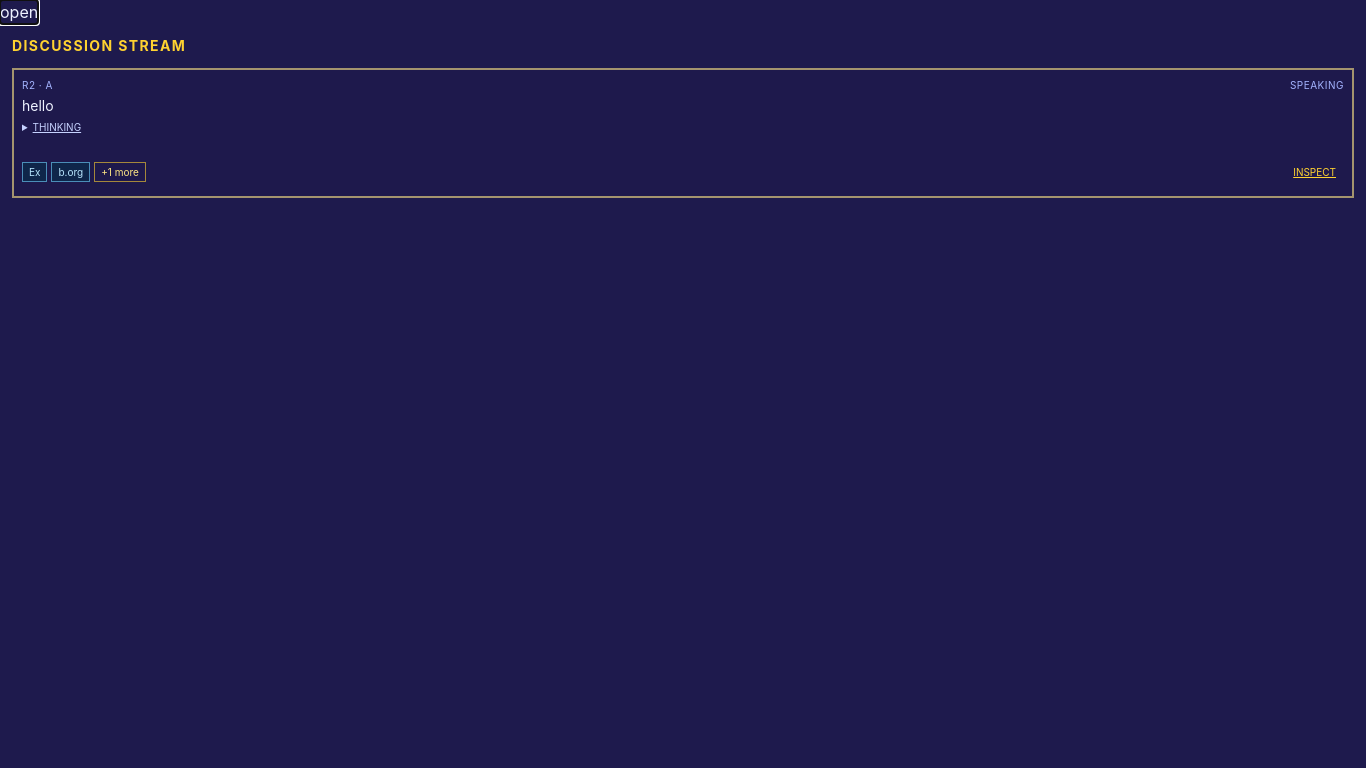
InspectPanel › opens from transcript chips, traps focus, and returns focus
Expected: the number of links with test id "citation-chip" is 2, [22, 162, 48, 182]; [52, 162, 90, 182]
Click the button with test id "citation-more" at x=120, y=172, box [94, 162, 146, 182]
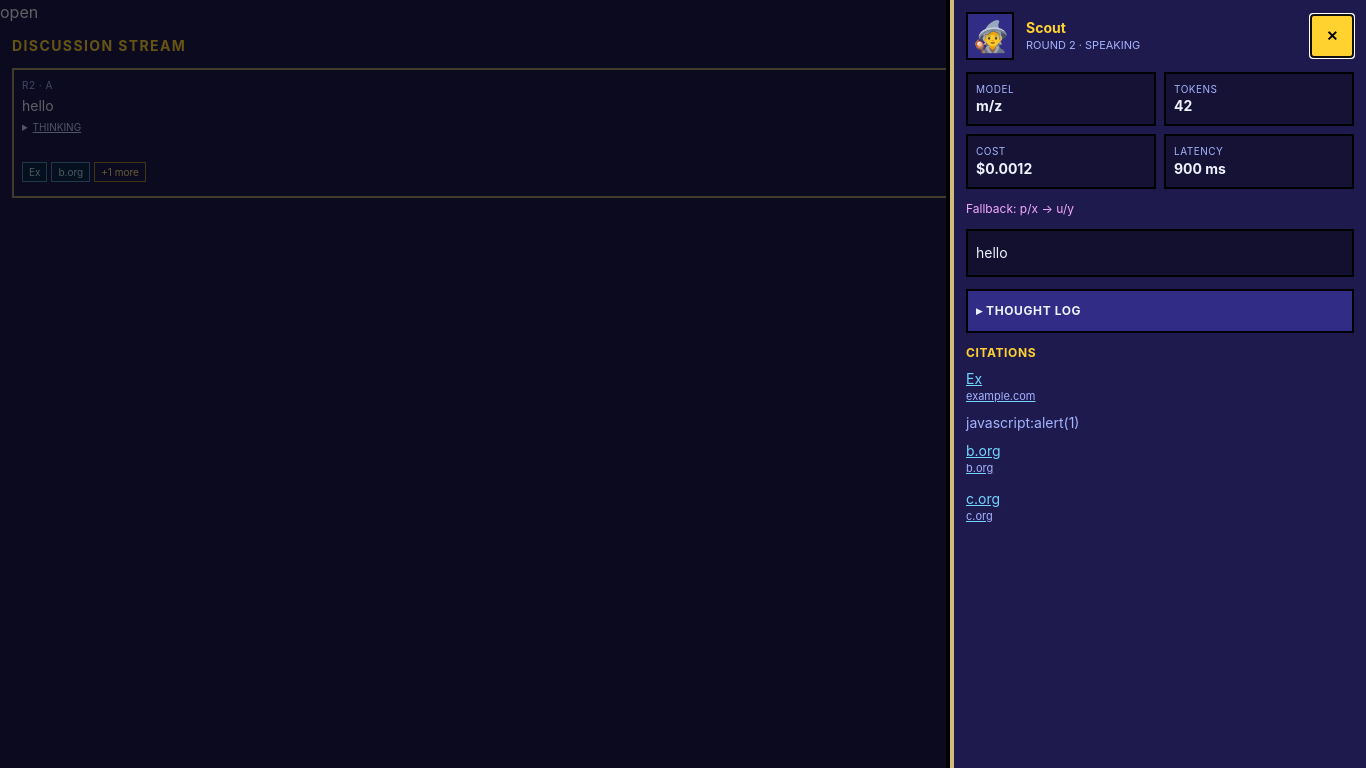
Now the dialog with test id "inspect-panel" is shown, box [950, 0, 1365, 767]
Press Tab
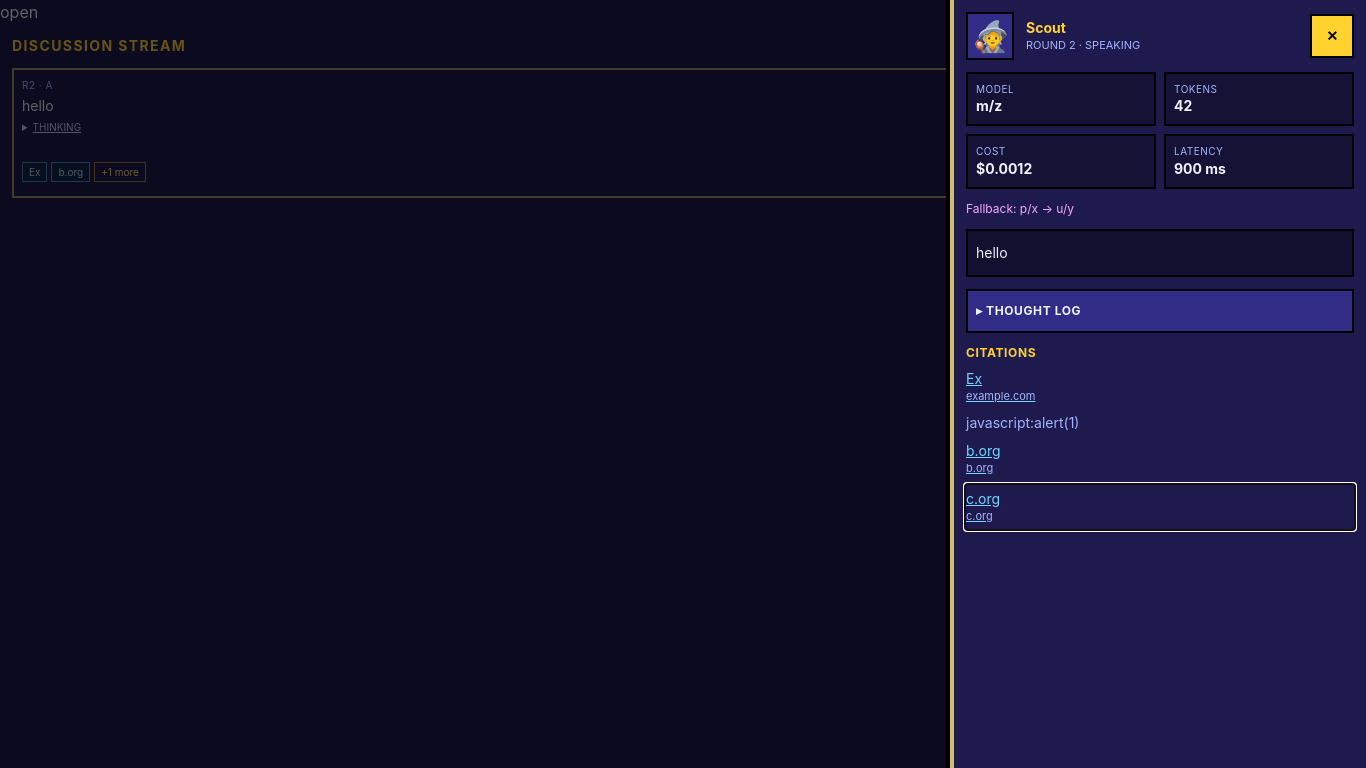
Press Escape
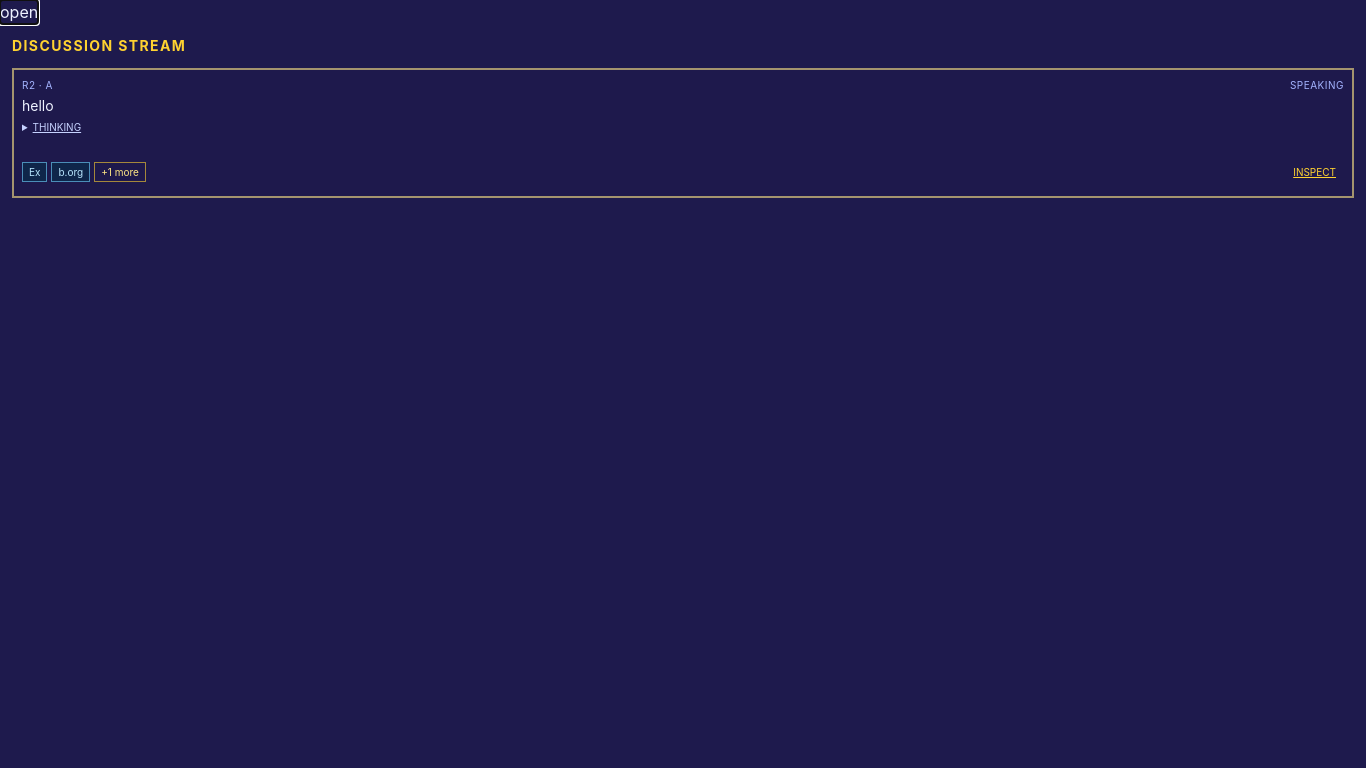
Now the dialog with test id "inspect-panel" is gone
